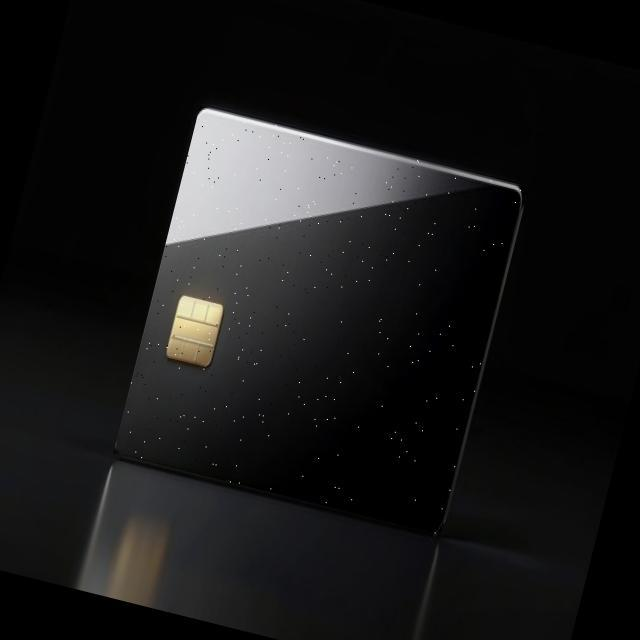payment_card: (112, 105, 524, 538)
